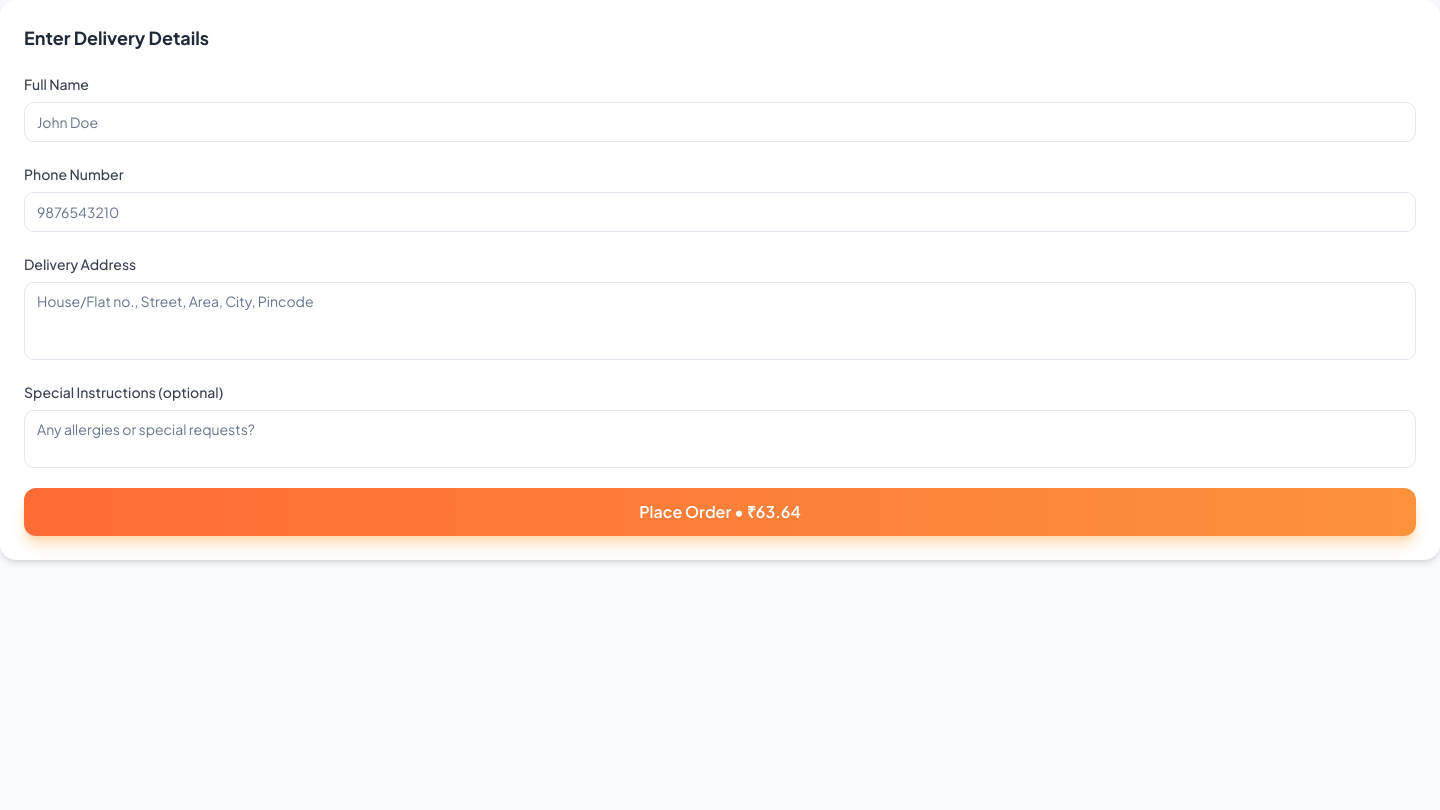
CheckoutForm › shows validation errors when form is submitted empty
What coordinates should you click on to do the following:
click the button with test id "submit-btn"
I would click on:
 (720, 512)
Its box is [24, 488, 1416, 536].
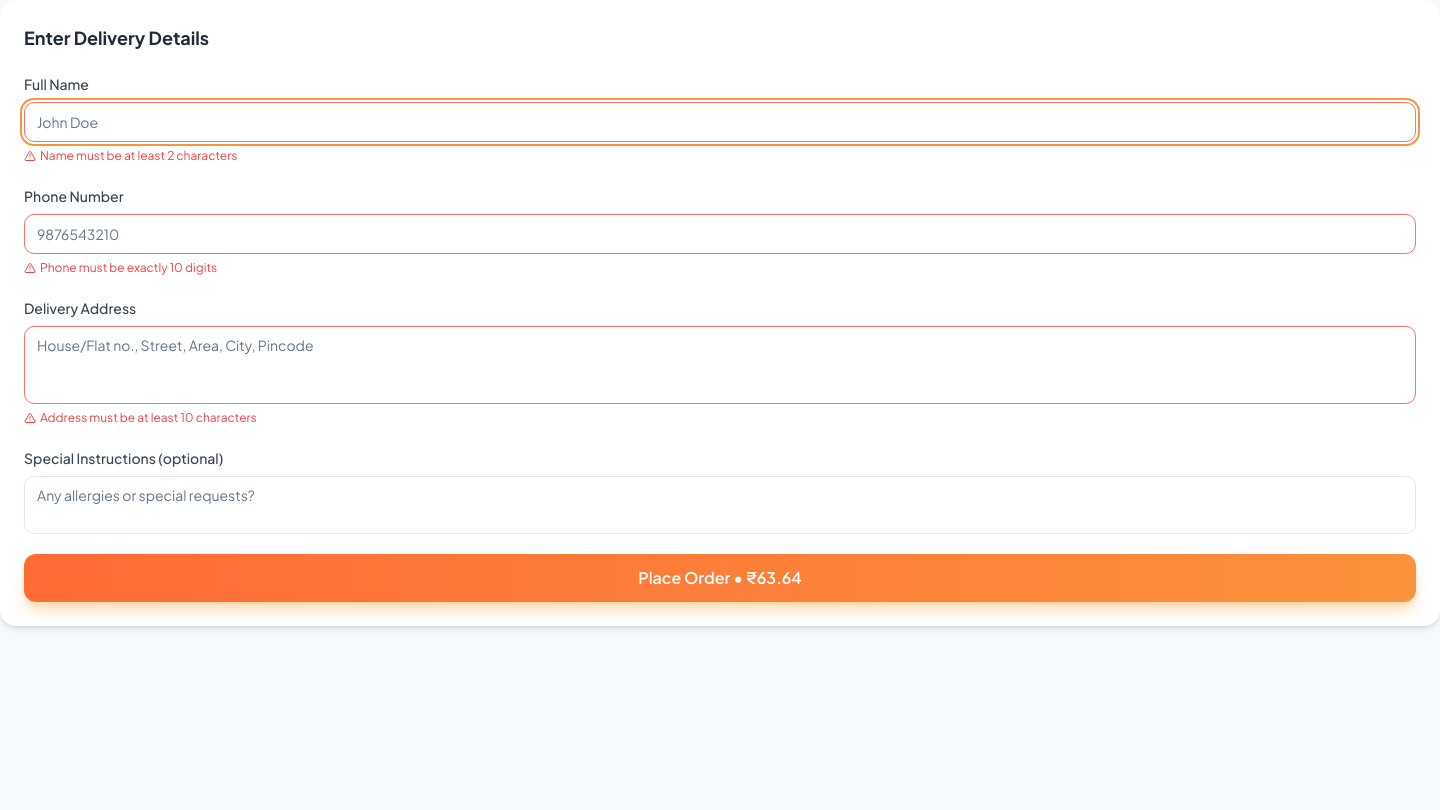
Now the text "Name must be at least 2 characters" is shown, box [24, 148, 237, 163]
